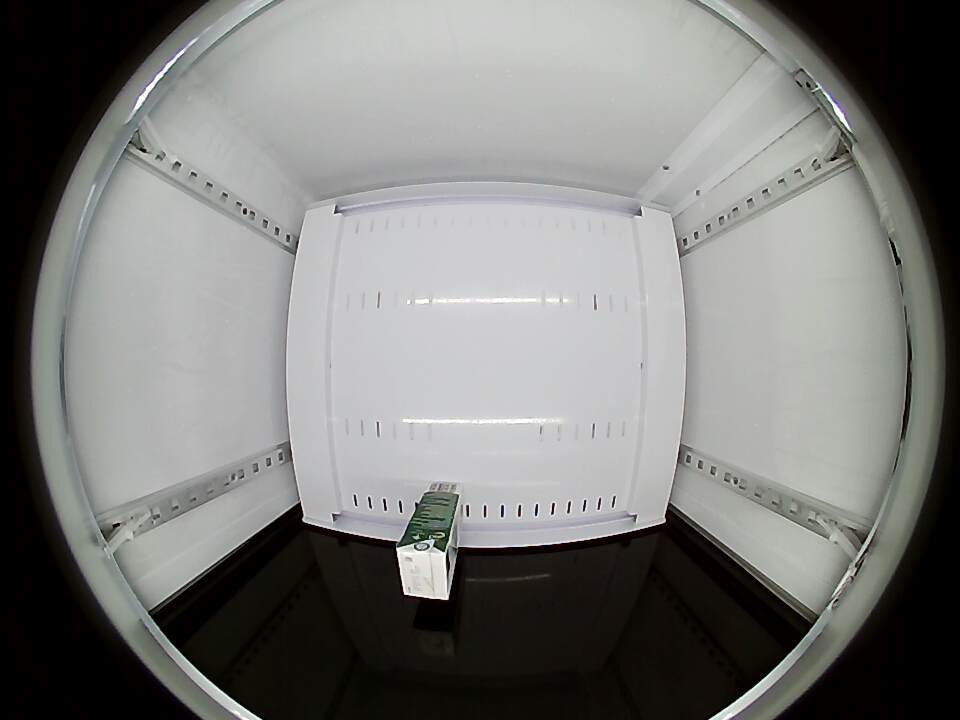jindian: (396, 527, 456, 601)
